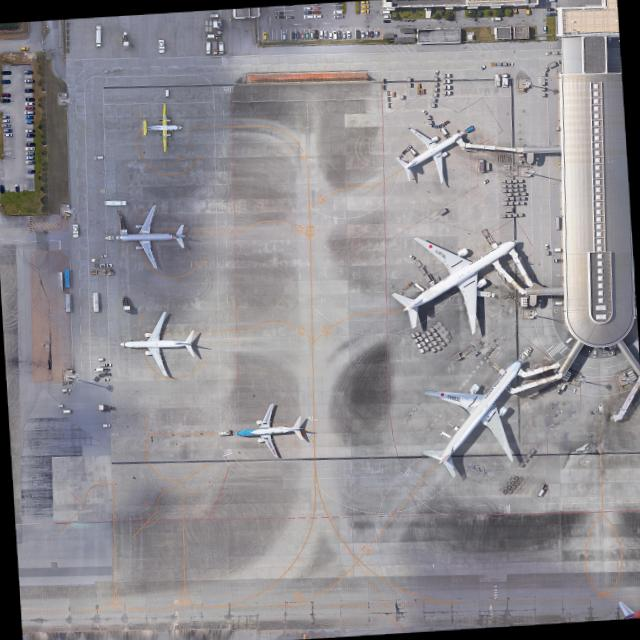large-vehicle: (95, 24, 102, 48), (564, 335, 573, 345), (218, 40, 224, 55), (205, 40, 211, 54), (212, 40, 218, 54), (62, 408, 72, 413), (553, 300, 562, 305), (553, 257, 562, 262), (552, 246, 561, 251), (93, 155, 104, 159), (382, 9, 391, 13)
plane: (395, 328, 566, 501), (373, 194, 545, 361), (385, 107, 476, 195), (118, 310, 196, 377), (117, 201, 189, 268), (235, 401, 305, 460), (141, 103, 184, 152)
small-vehicle: (0, 69, 12, 75), (262, 30, 268, 40), (525, 4, 531, 14), (25, 132, 36, 137), (0, 92, 11, 97), (164, 88, 170, 97), (24, 87, 34, 92), (25, 96, 35, 101), (26, 141, 36, 146), (25, 145, 35, 150), (26, 168, 36, 173), (23, 68, 33, 73), (102, 422, 112, 427), (25, 128, 35, 133), (26, 159, 36, 164), (360, 8, 370, 13), (275, 14, 285, 19), (333, 9, 343, 14), (337, 29, 342, 39), (25, 114, 34, 119), (25, 105, 34, 110), (0, 184, 5, 193), (3, 127, 12, 132), (20, 45, 29, 50), (546, 11, 555, 16), (334, 0, 343, 5), (334, 4, 343, 9), (313, 13, 322, 18), (332, 30, 337, 39), (346, 30, 351, 39), (0, 98, 11, 102), (0, 79, 11, 83), (490, 16, 501, 20), (592, 349, 597, 357), (1, 123, 11, 127), (282, 30, 286, 40), (360, 30, 365, 38), (369, 30, 374, 38), (312, 1, 322, 5), (285, 14, 293, 19), (323, 29, 328, 37), (25, 119, 34, 123), (24, 78, 33, 82), (14, 183, 18, 192), (25, 101, 34, 105), (3, 132, 12, 136), (1, 114, 10, 118), (360, 4, 369, 8), (356, 29, 360, 38), (407, 17, 413, 23), (513, 5, 517, 14), (275, 10, 284, 14), (314, 29, 318, 38), (304, 14, 313, 18), (319, 29, 323, 38), (342, 30, 346, 39), (334, 14, 343, 18), (26, 155, 34, 159), (2, 118, 10, 122), (375, 29, 379, 37), (383, 14, 391, 18), (291, 31, 295, 39), (296, 31, 300, 39), (310, 31, 314, 39), (313, 9, 321, 13), (24, 110, 34, 113), (411, 17, 417, 22), (403, 17, 409, 22), (602, 348, 606, 355), (543, 25, 547, 32), (547, 7, 554, 11), (313, 5, 320, 9), (301, 31, 305, 38), (305, 31, 309, 38), (305, 10, 312, 14), (304, 5, 311, 9), (328, 31, 332, 38), (25, 151, 34, 154), (360, 0, 369, 3), (366, 29, 369, 38), (399, 17, 404, 22), (383, 19, 391, 22), (546, 0, 555, 1)
